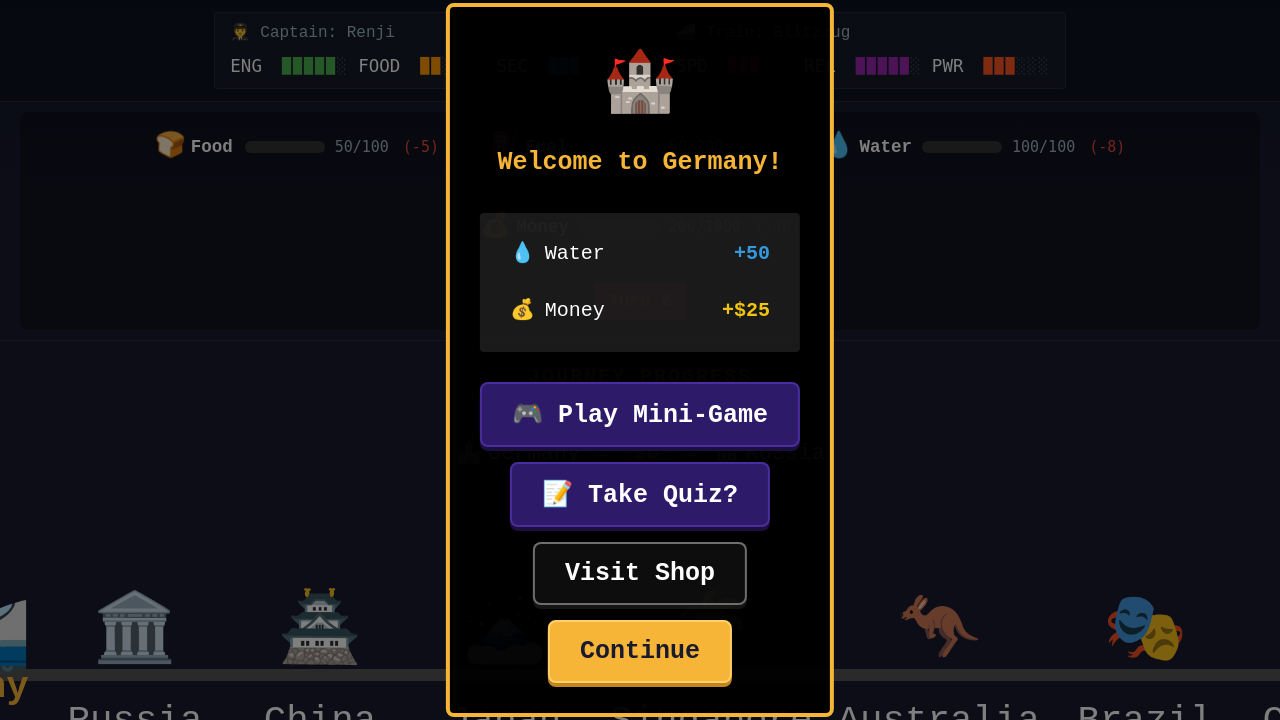
Test: DashboardScreen › cart shop integration › opens StationShop when Visit Shop clicked
Click Visit Shop button
Click the button "Visit Shop". click: point(640, 574)
box: [533, 542, 747, 605]
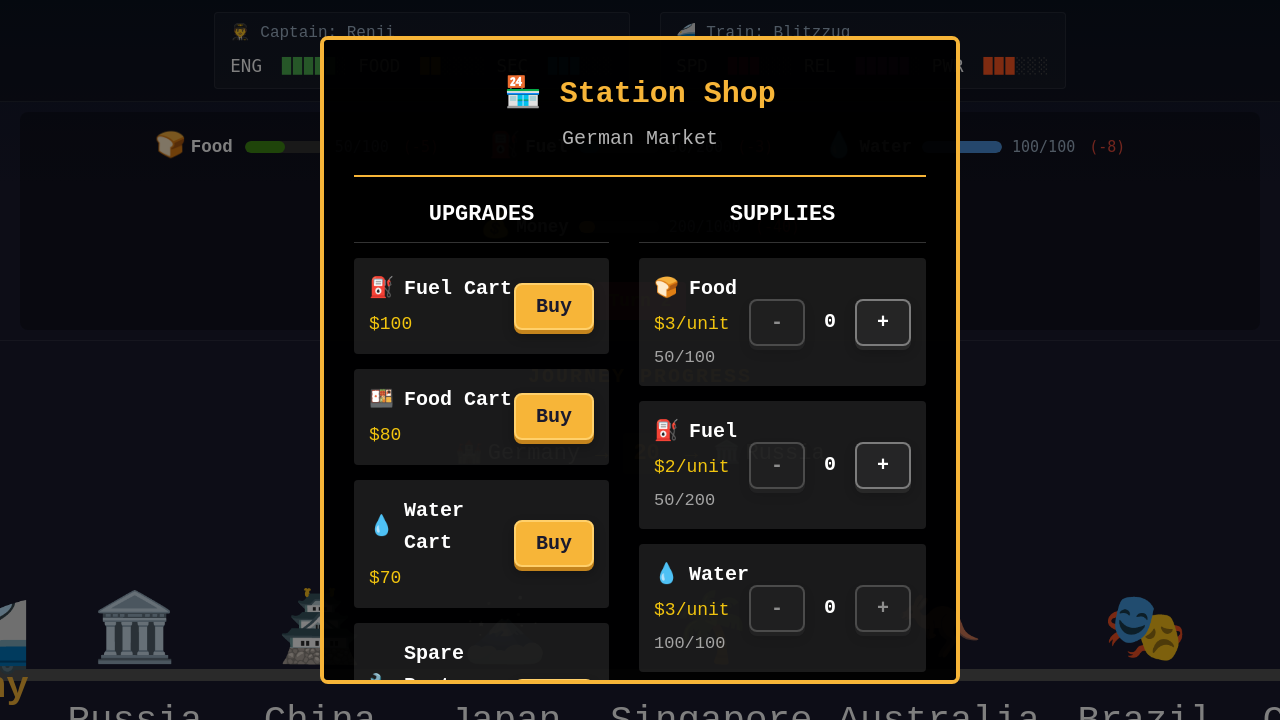
expect the element with test id "station-shop" is shown: met, box [320, 36, 960, 684]
expect the element with test id "station-modal" is gone: met
